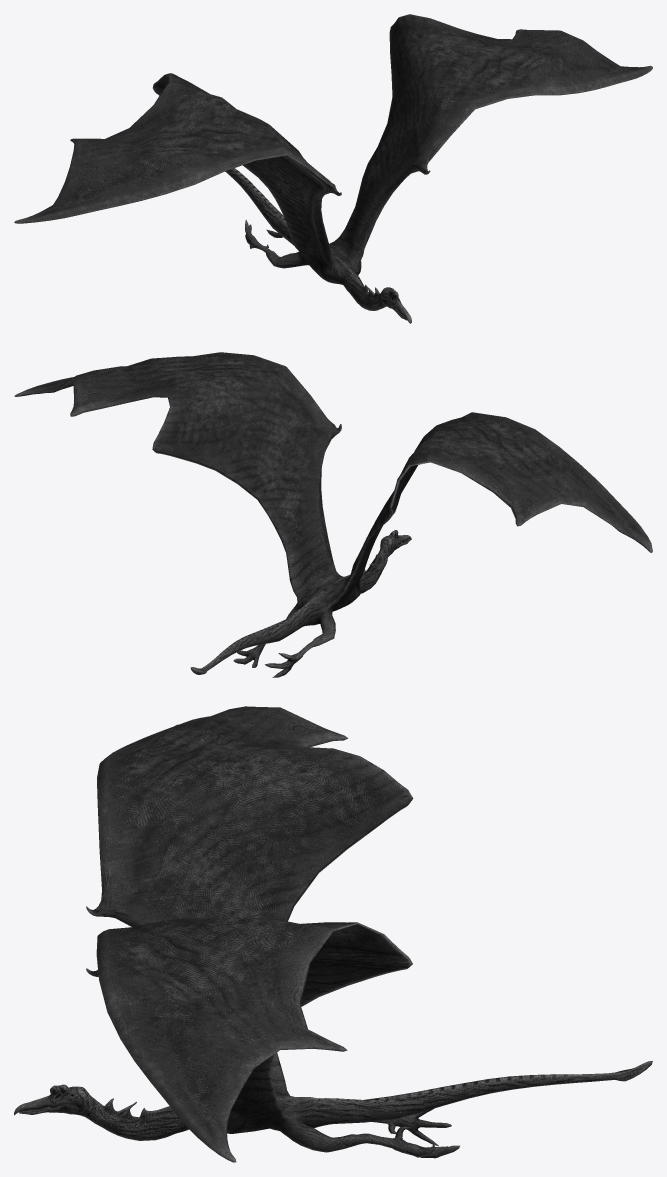
File: Fellbeast_Animate_Flying_10.obj
The picture shows the model from 3 angles, top to bottom: view 1: azimuth 30°, elevation 25°; view 2: azimuth 150°, elevation 25°; view 3: azimuth 270°, elevation 25°; orthographic projection. The views are drawn at different scales.
Parts seen in each view (by area): view 1: Fellbeast; view 2: Fellbeast; view 3: Fellbeast.
Boxes of the visible parts, <box> form: Fellbeast: <box>14,14,652,323</box>; Fellbeast: <box>14,352,652,677</box>; Fellbeast: <box>14,706,652,1162</box>.
Bounding box in the file's own units: 7.22 × 2.38 × 4.37.
